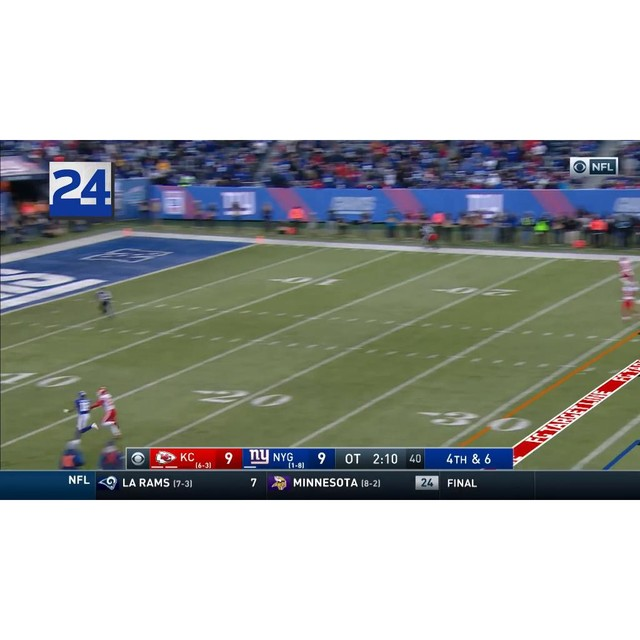american-football-player: (90, 386, 122, 438), (65, 390, 98, 438), (619, 279, 638, 322)
